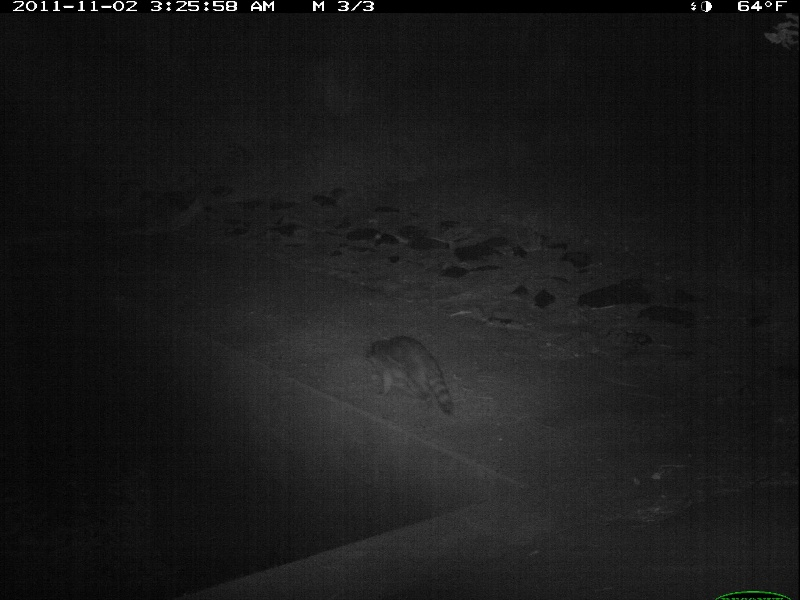raccoon: (365, 334, 457, 415)
